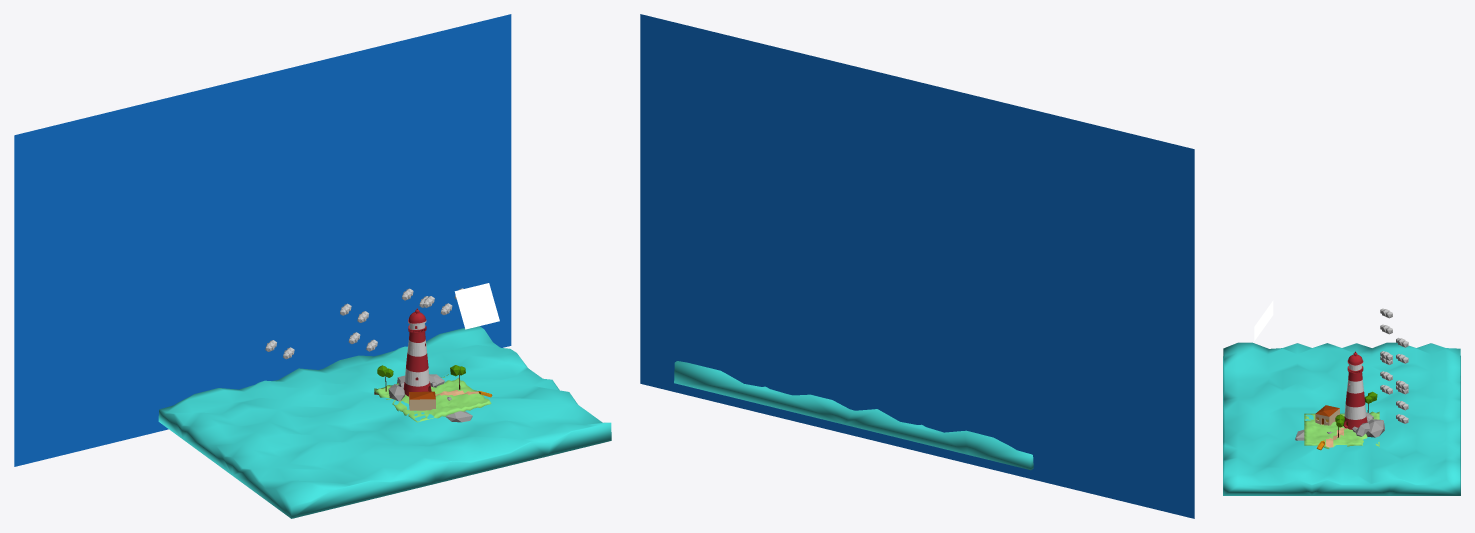
3 renders of one model, left to right at view 1: azimuth 30°, elevation 25°; view 2: azimuth 150°, elevation 25°; view 3: azimuth 270°, elevation 25°, orthographic. The views are drawn at different scales.
Visible parts, largest first — view 1: Plane.002_32, Water.001_5, Plane_6, Circle_1, Plane.001_4; view 2: Plane.002_32, Water.001_5; view 3: Water.001_5, Plane_6, Circle_1, Cube_9, Plane.001_4.
Boxes of the visible parts, <box> form: Plane.002_32: <box>14,14,511,466</box>; Water.001_5: <box>158,326,611,518</box>; Plane_6: <box>374,374,491,422</box>; Circle_1: <box>403,308,431,396</box>; Plane.001_4: <box>454,283,499,329</box>; Plane.002_32: <box>640,14,1194,518</box>; Water.001_5: <box>674,361,1033,470</box>; Water.001_5: <box>1223,342,1460,495</box>; Plane_6: <box>1304,411,1379,448</box>; Circle_1: <box>1343,351,1367,429</box>; Cube_9: <box>1315,405,1339,425</box>; Plane.001_4: <box>1254,300,1273,340</box>.
Bounding box in the file's own units: 28.78 × 18.35 × 13.56.
